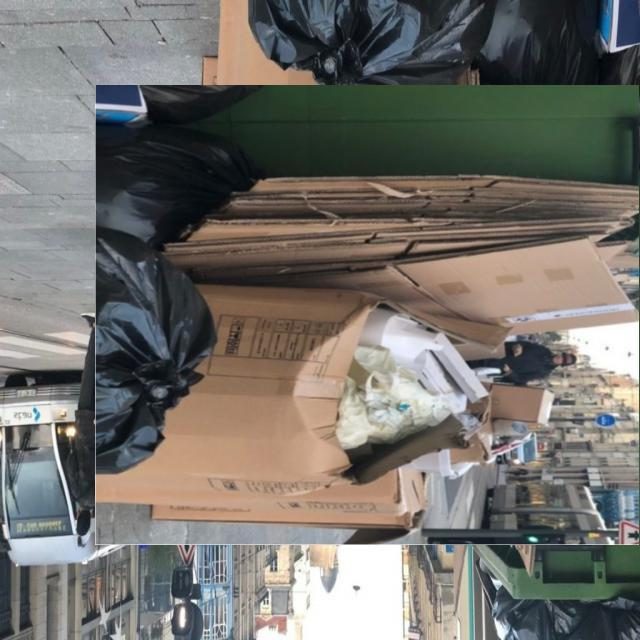Trashbag: (95, 235, 226, 472), (247, 0, 489, 84), (94, 123, 261, 243), (479, 5, 614, 83)
